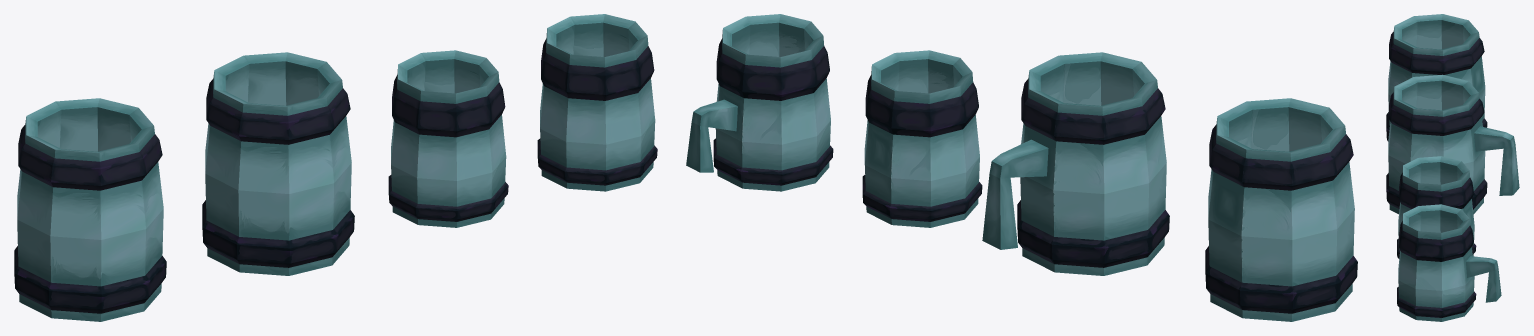
Rendered from Vasos.fbx.
The picture shows the model from 3 angles, left to right: view 1: azimuth 30°, elevation 25°; view 2: azimuth 150°, elevation 25°; view 3: azimuth 270°, elevation 25°; orthographic projection. The views are drawn at different scales.
Parts seen in each view (by area): view 1: Vaso2, Vaso1, Vaso3, Vaso4; view 2: Vaso2, Vaso1, Vaso4, Vaso3; view 3: Vaso2, Vaso4, Vaso1, Vaso3.
Part boxes in pixels (box(x1,y1,x2,y2)): Vaso2: box(202, 52, 354, 275); Vaso1: box(14, 98, 166, 321); Vaso3: box(388, 50, 508, 227); Vaso4: box(537, 14, 657, 191); Vaso2: box(982, 52, 1169, 275); Vaso1: box(1205, 98, 1357, 321); Vaso4: box(686, 14, 833, 191); Vaso3: box(862, 50, 982, 227); Vaso2: box(1386, 74, 1519, 214); Vaso4: box(1397, 204, 1501, 321); Vaso1: box(1386, 14, 1487, 141); Vaso3: box(1397, 156, 1476, 258).
Bounding box in the file's own units: 198 × 50 × 54.92.
